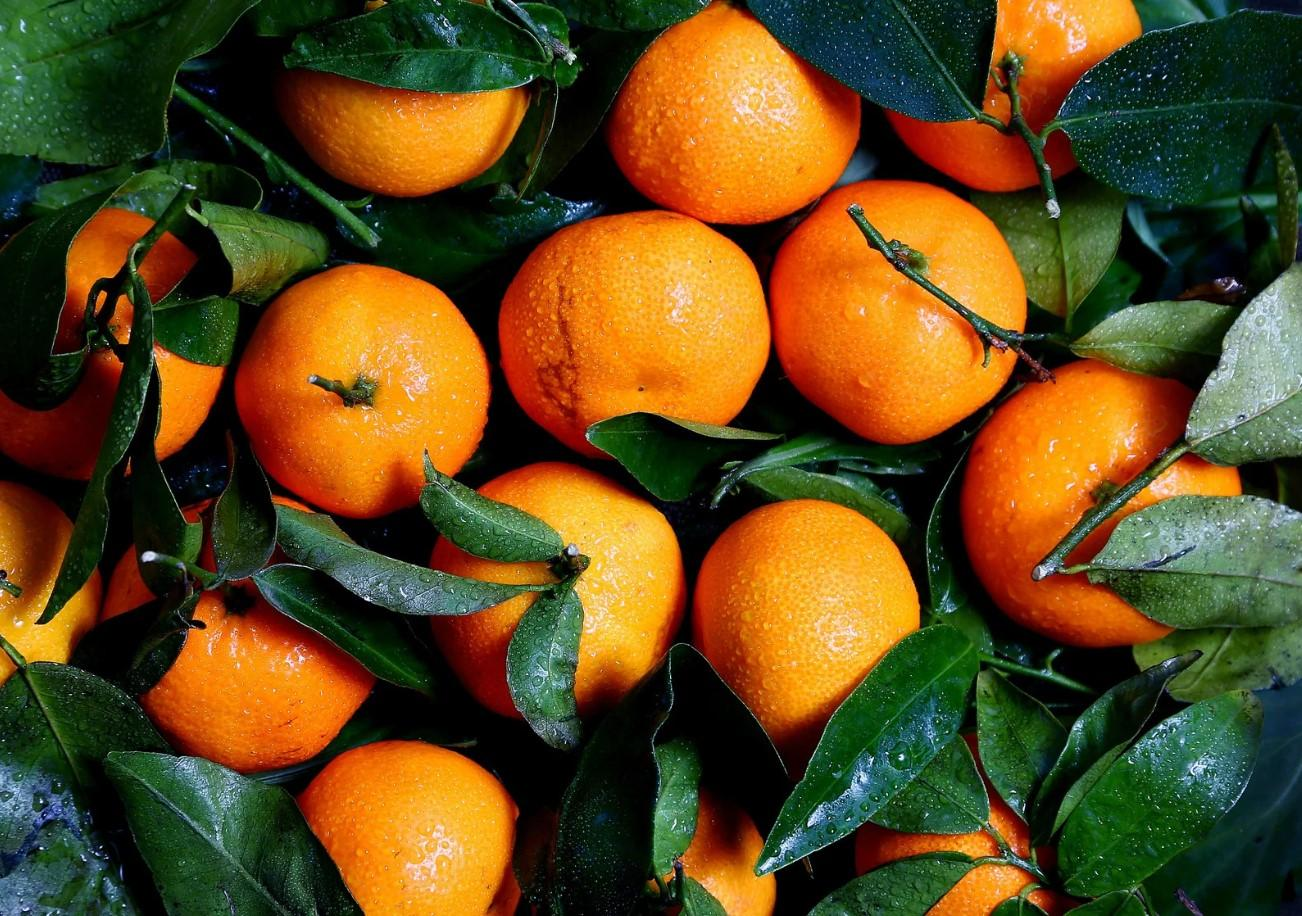Orange: (229, 244, 506, 524)
